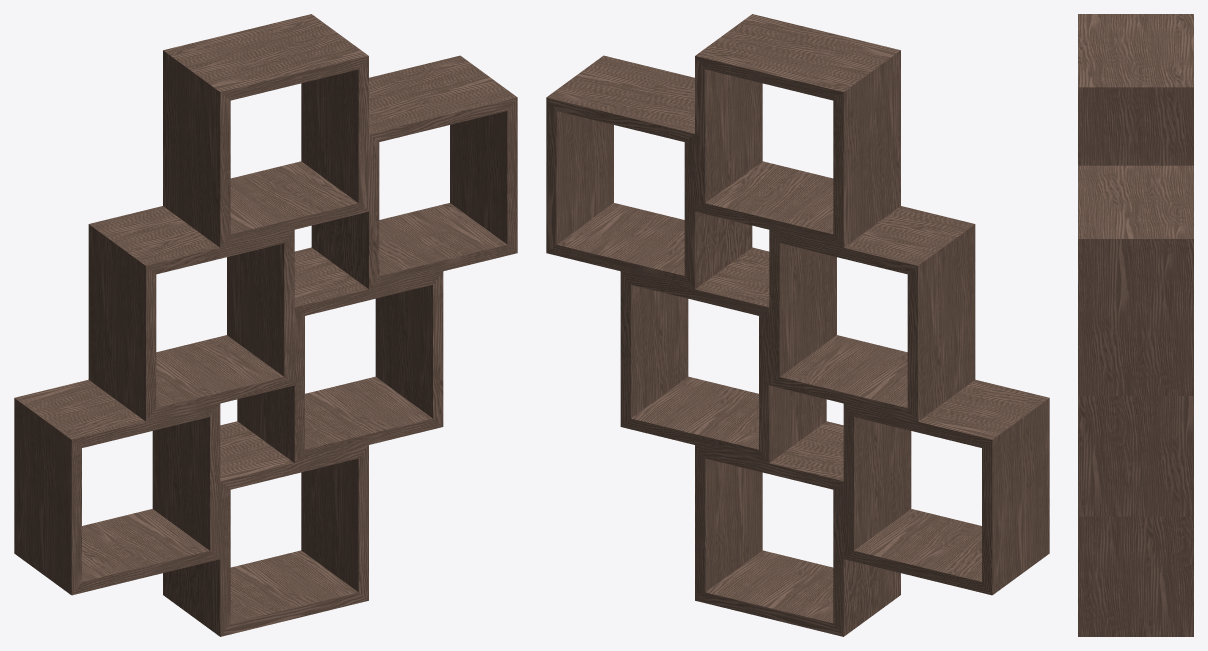
The model's file is shelf_006.fbx.
3 renders of one model, left to right at view 1: azimuth 30°, elevation 25°; view 2: azimuth 150°, elevation 25°; view 3: azimuth 270°, elevation 25°, orthographic.
Parts seen in each view (by area): view 1: shelf_006; view 2: shelf_006; view 3: shelf_006.
Part boxes in pixels (bbox=[...]): shelf_006: bbox=[14, 14, 517, 636]; shelf_006: bbox=[546, 14, 1049, 636]; shelf_006: bbox=[1078, 14, 1193, 636].
Bounding box in the file's own units: 153 × 33.97 × 178.
